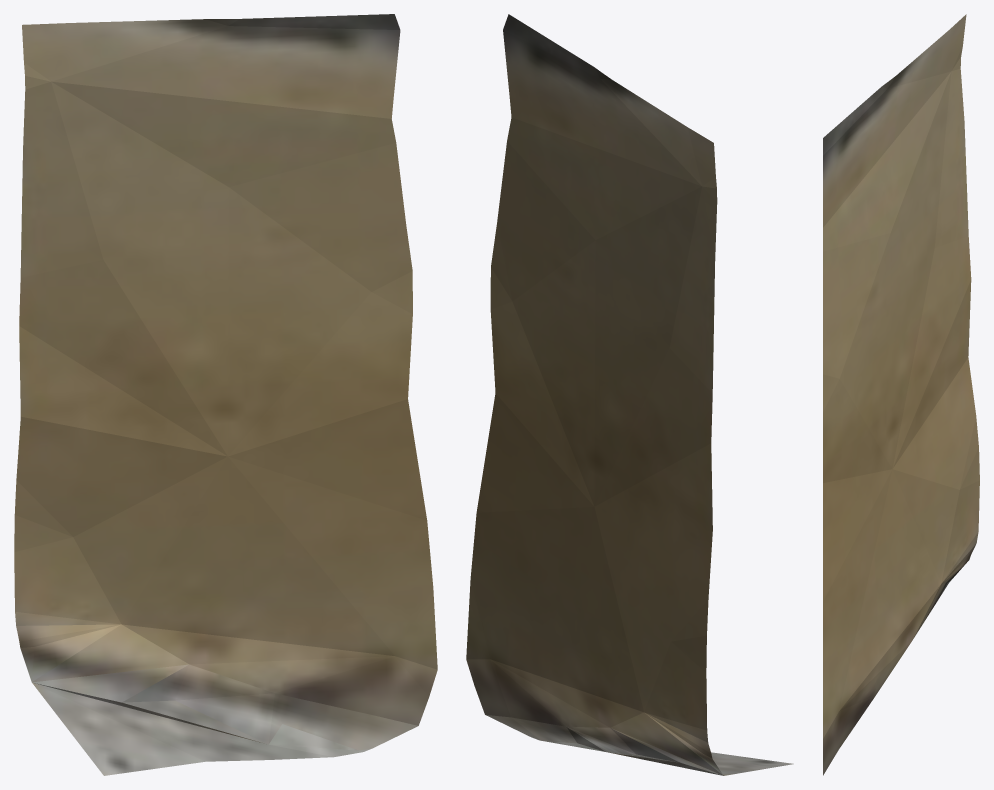
3 renders of one model, left to right at view 1: azimuth 30°, elevation 25°; view 2: azimuth 150°, elevation 25°; view 3: azimuth 270°, elevation 25°, orthographic. The views are drawn at different scales.
Bounding box in the file's own units: 0.2519 × 0.5267 × 0.1173.
Materials: 1 (1 with a texture image).
